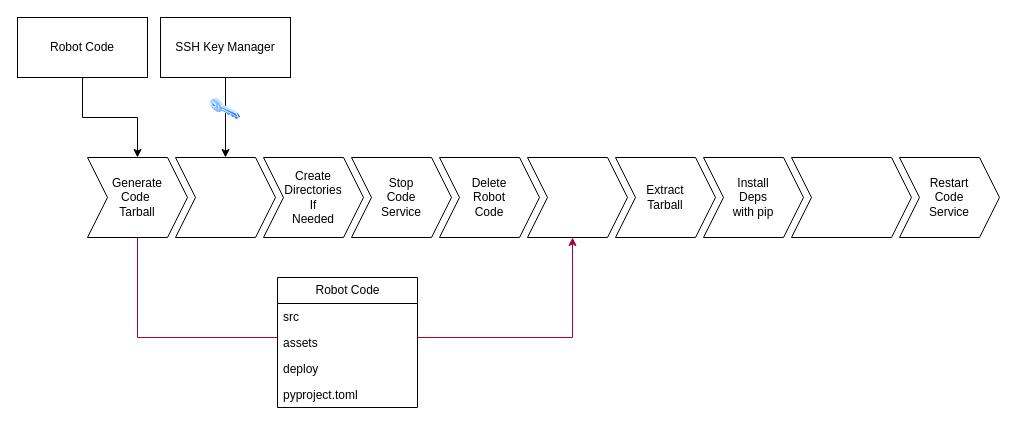
The diagram is 1027 pixels wide and 428 high, and some of its shapes have lost their labels. Here are the shapes that lost their labels. From the top down, the centre of each, then its label:
the point at 225,197: Connect SFTP
the point at 577,197: Upload Tarball
the point at 851,197: Install Custom Wheels from -W args
